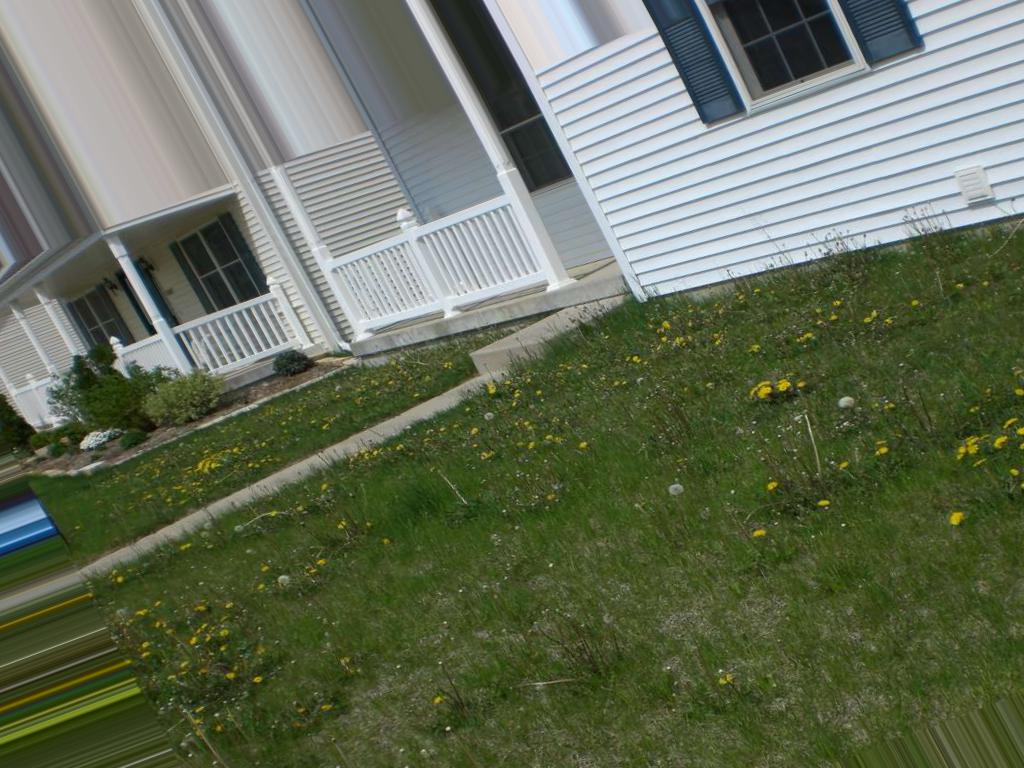patch: (701, 612, 908, 753)
